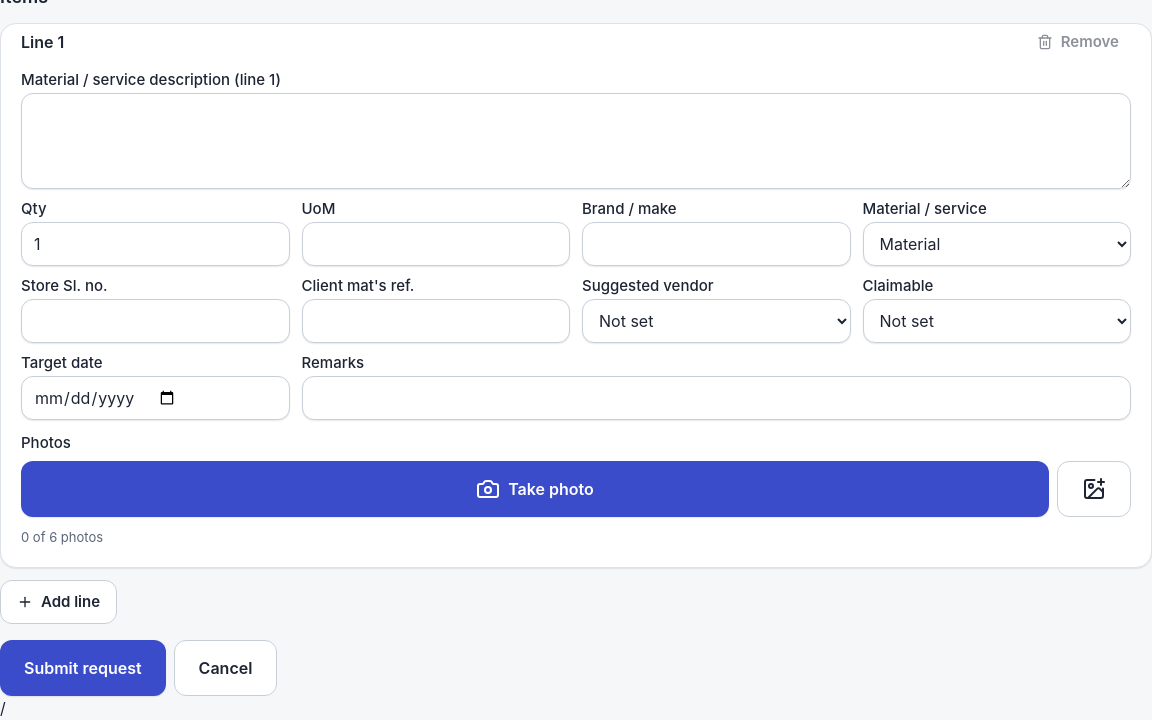
it: material request form › prefills the header from the work request and adds and removes lines
(page scrolled)
Expected: the button with aria-label "Remove line 1" is disabled, left=1025, top=24, right=1131, bottom=60
Click the button "Add line".
click(59, 602)  # box left=0, top=580, right=117, bottom=624
(page scrolled)
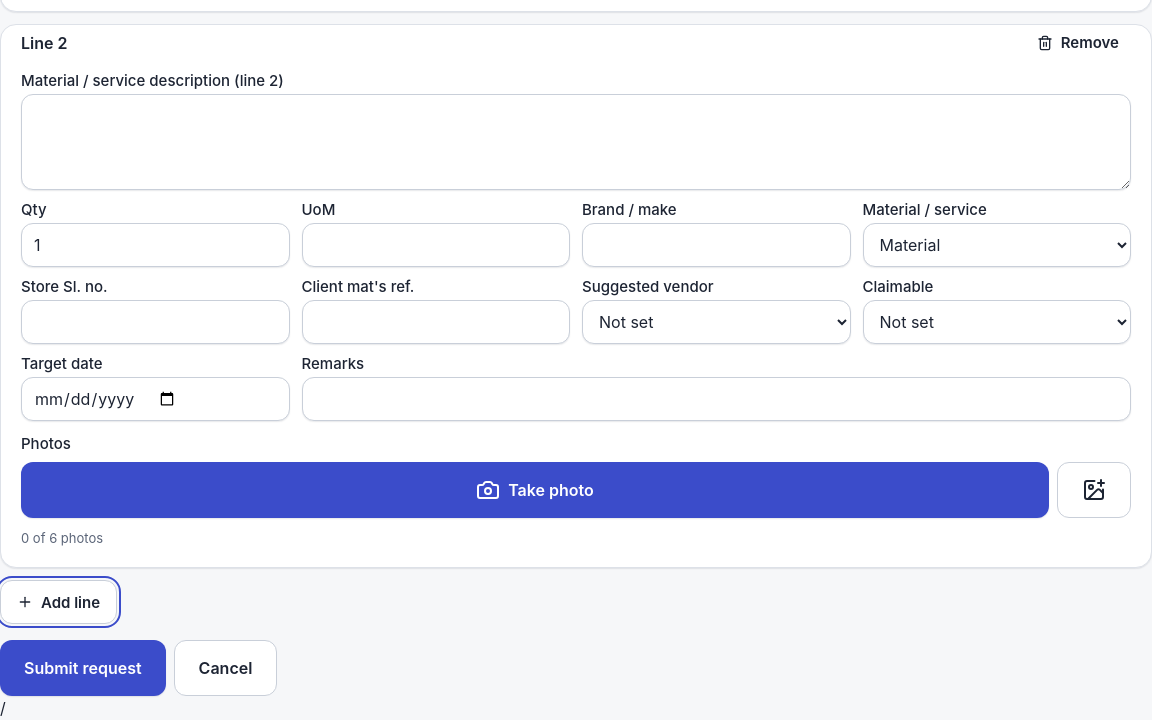
Click the button "Add line".
click(59, 602)  # box left=0, top=580, right=117, bottom=624
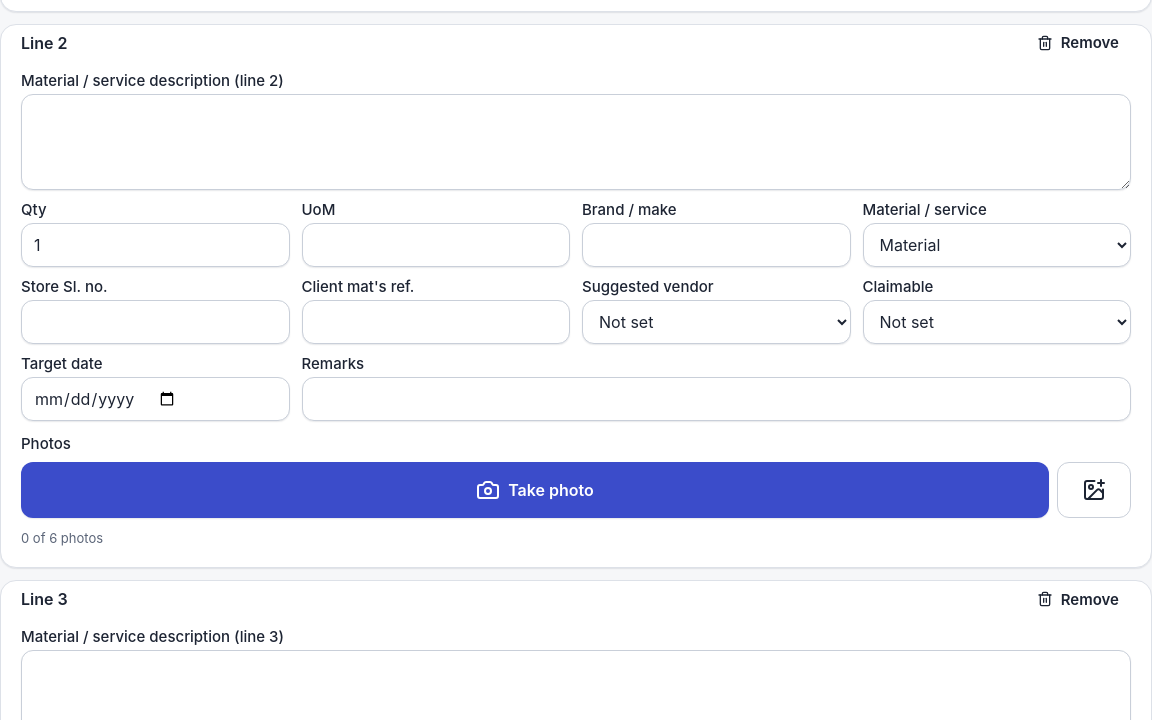
Type "PTFE tape" into the text box labelled "Material / service description (line 2)".
click(576, 142); type("PTFE tape")  # box left=21, top=94, right=1131, bottom=190
(page scrolled)
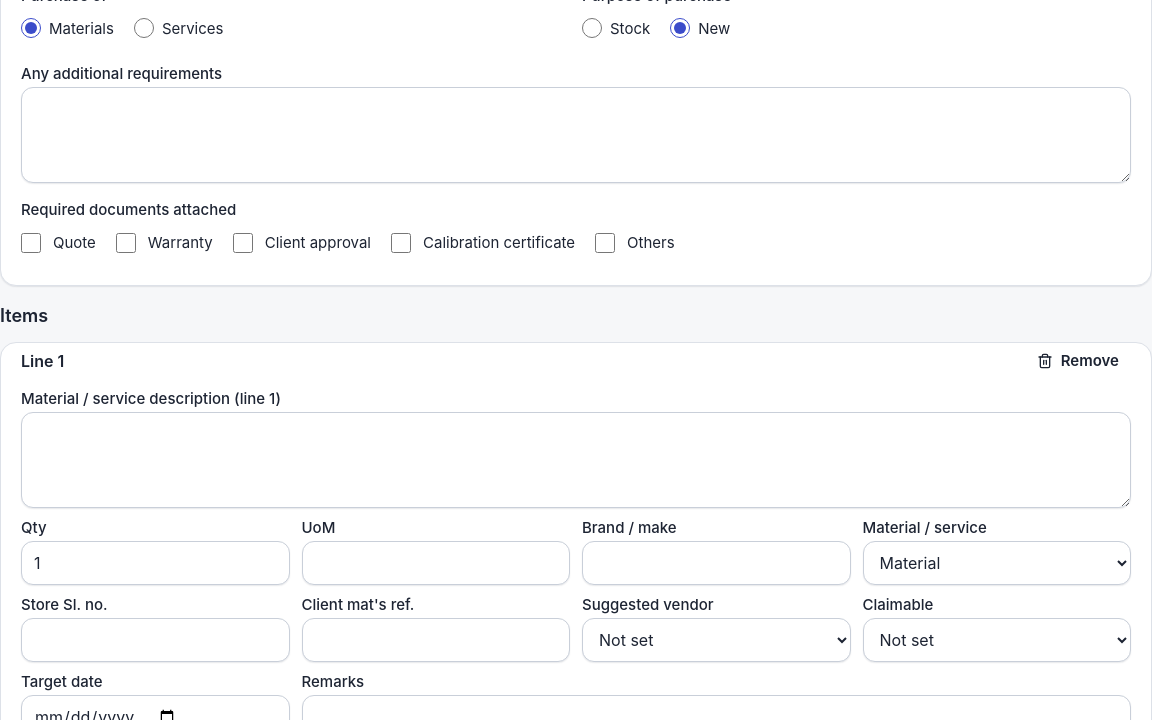
Click the button with aria-label "Remove line 1".
click(1078, 361)  # box left=1025, top=343, right=1131, bottom=379
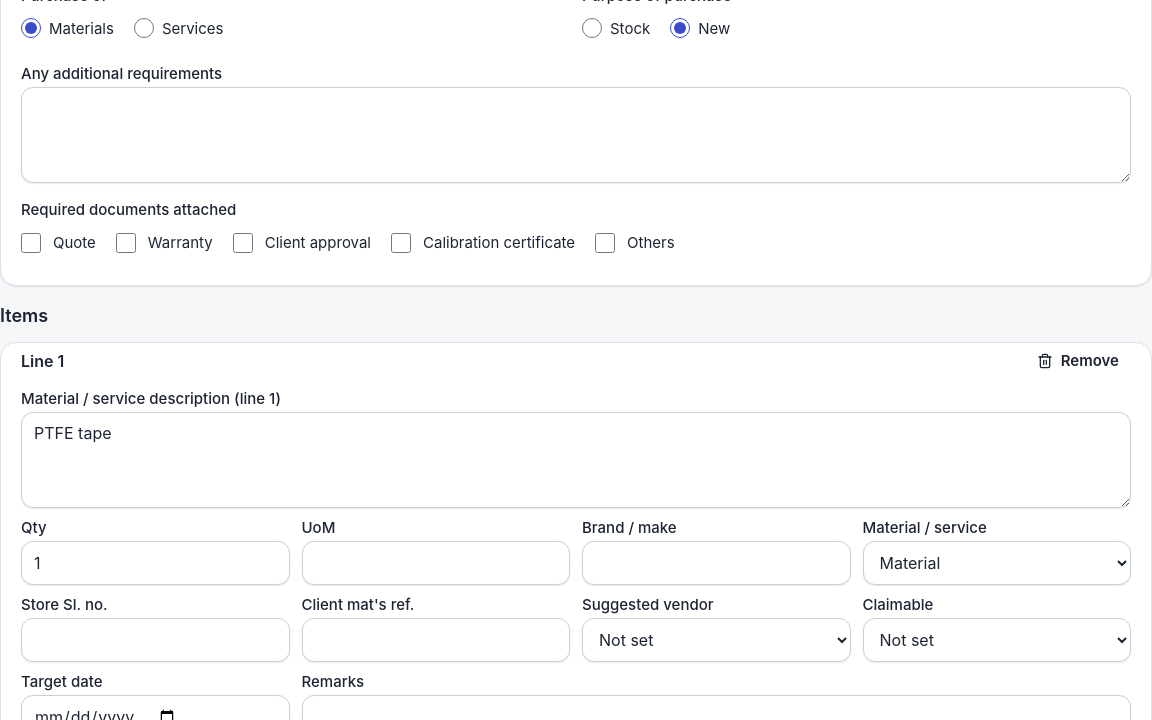
Expected: the number of elements with test id "mr-line" is 2
